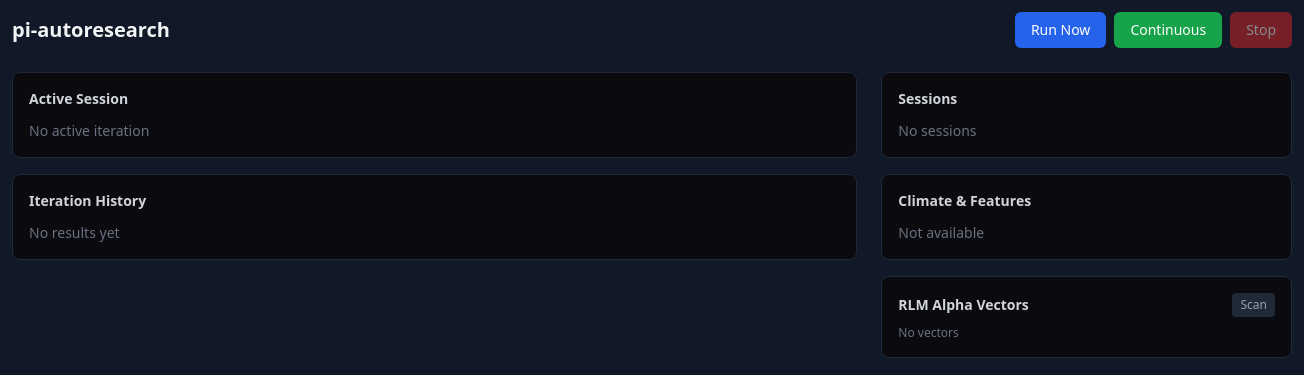
Test: ResearchPage › disables Run Now and Continuous buttons while running
The image size is (1304, 375).
Click the button "Run Now": (1061, 30) [1015,12,1106,48]
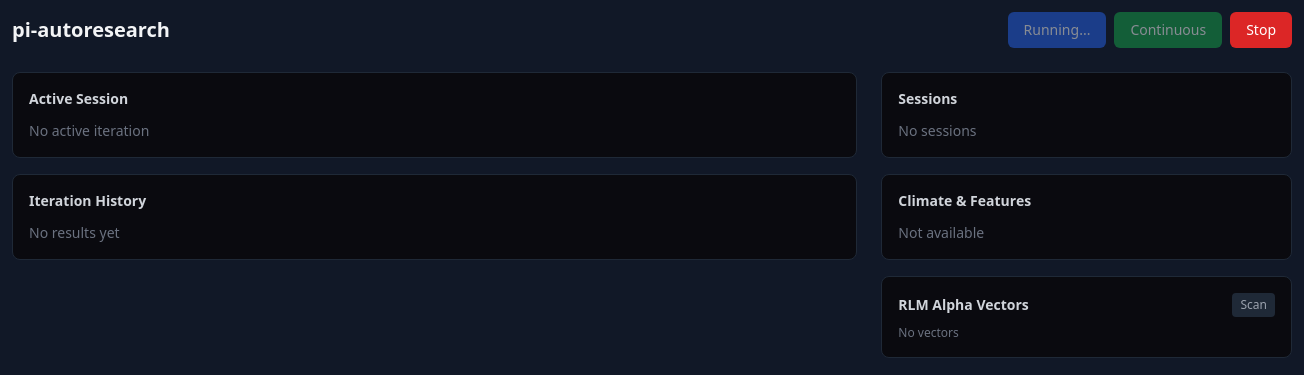
Check: the button "Running..." is disabled, box [1008,12,1106,48]
